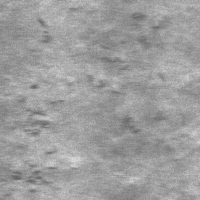rolled-in_scale: (6, 83, 66, 200), (92, 50, 141, 140)
